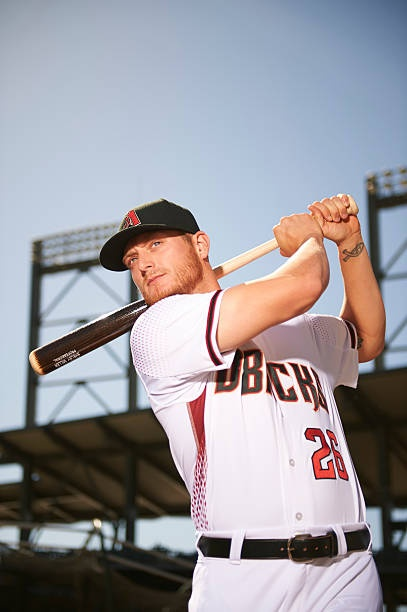bita: (209, 204, 353, 279), (27, 292, 149, 378)
